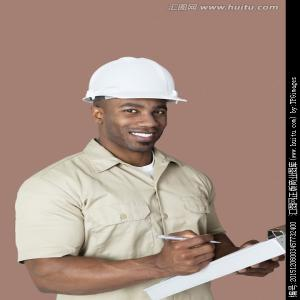white: (86, 60, 179, 153)
